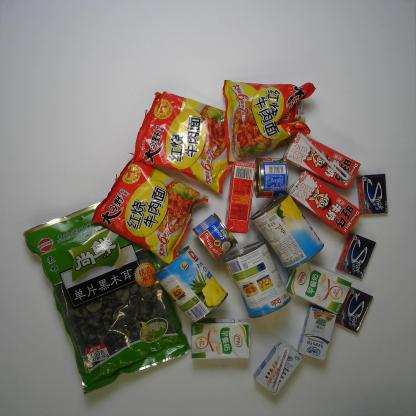Canned Food: (151, 244, 230, 324), (249, 191, 326, 272), (221, 238, 294, 320), (190, 210, 241, 263), (251, 154, 291, 202)
Dried Food: (19, 197, 193, 400)
Gum: (334, 230, 377, 280), (333, 285, 375, 334), (355, 172, 390, 216)
Instant Noodles: (88, 150, 212, 267), (126, 87, 236, 198), (217, 74, 317, 165)
Milk: (286, 169, 364, 237), (281, 129, 363, 192), (284, 258, 354, 316), (222, 158, 260, 238), (252, 338, 304, 396), (188, 316, 252, 363), (296, 303, 338, 362)
